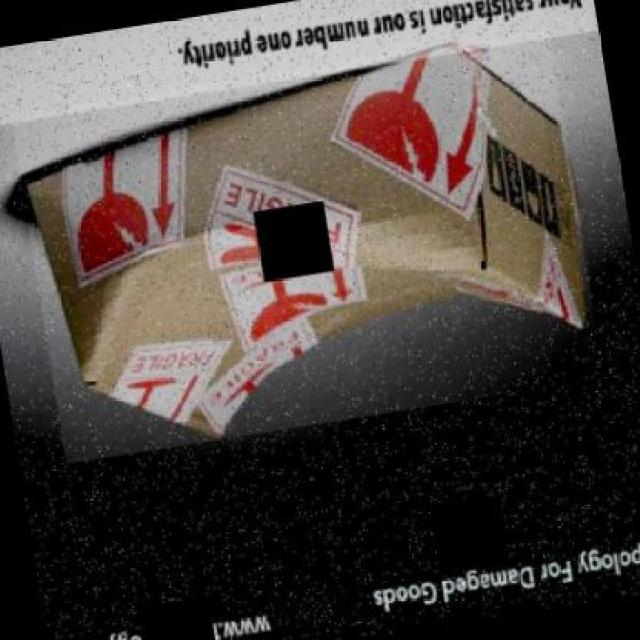box: (10, 28, 604, 464)
